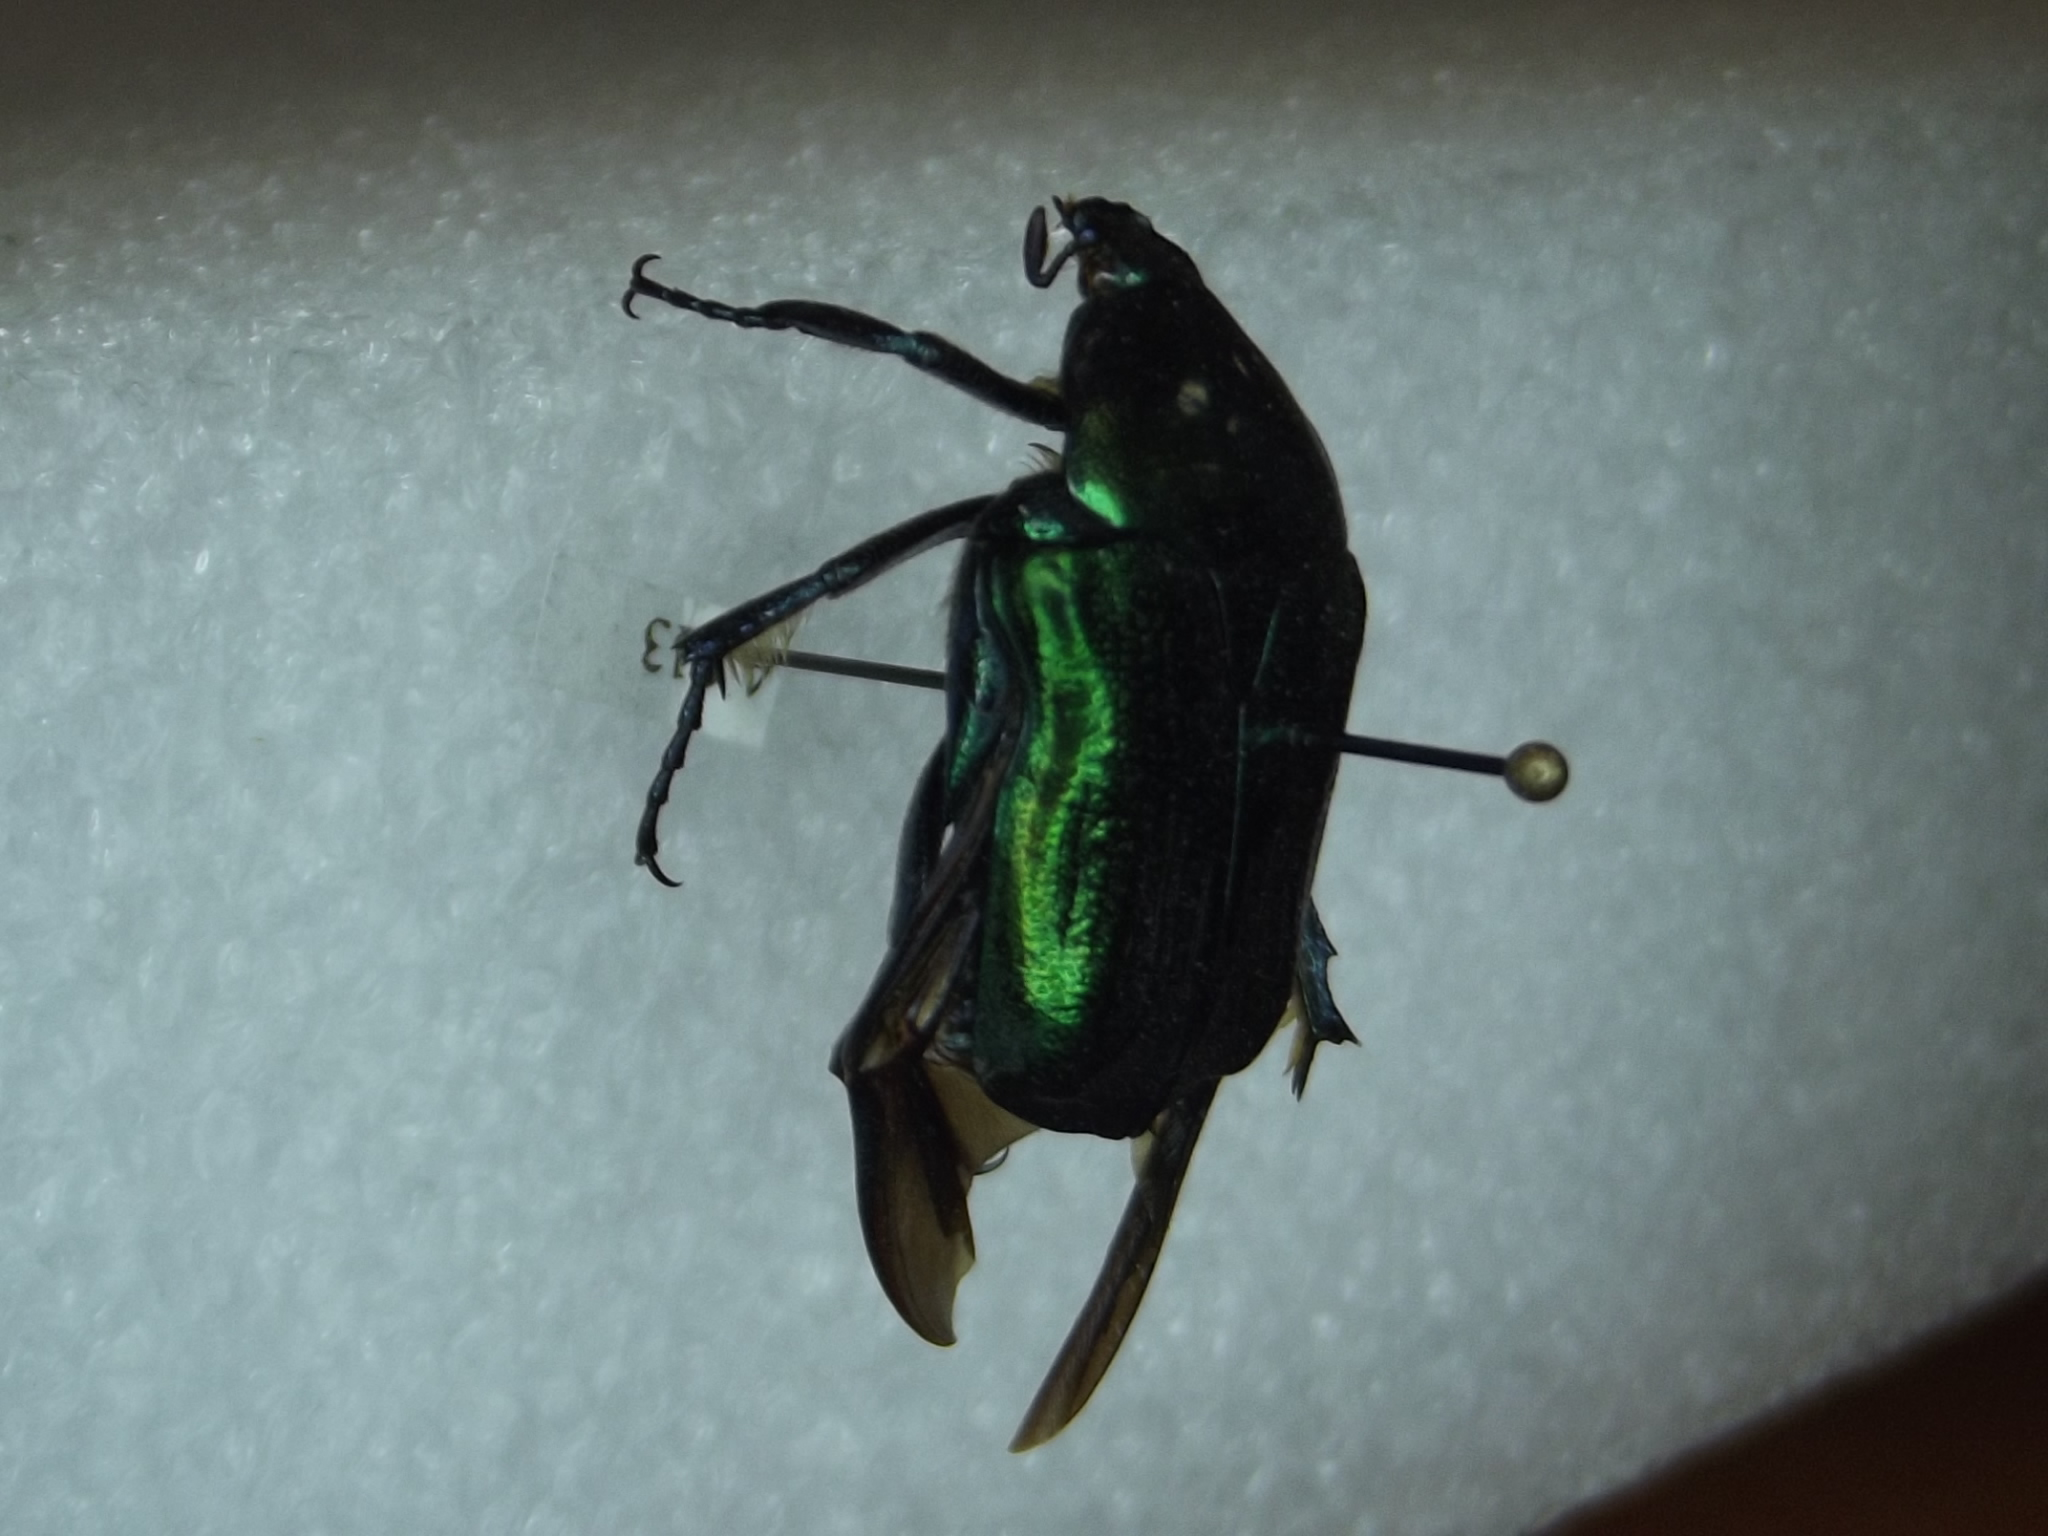Protaetia_angustata_angustata: (593, 177, 1367, 1463)
